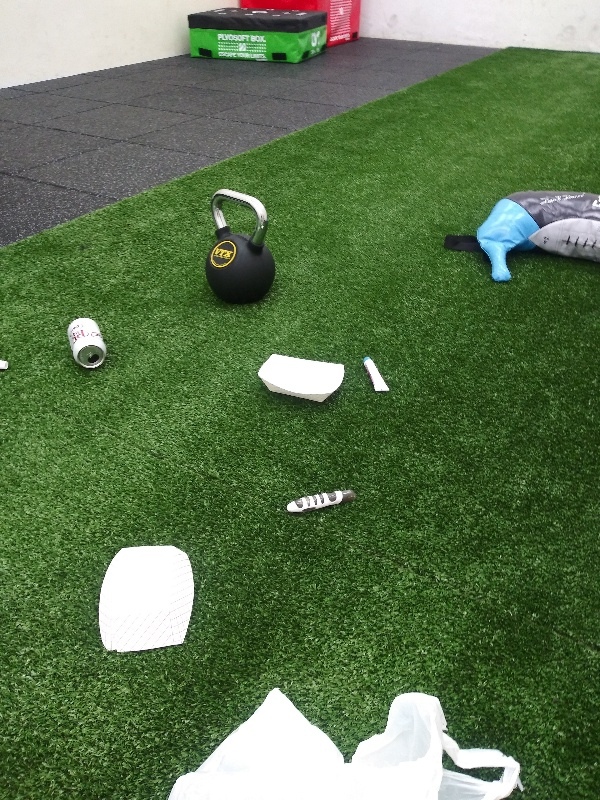can: (62, 316, 110, 371)
plate: (92, 543, 200, 657), (253, 351, 348, 406)
